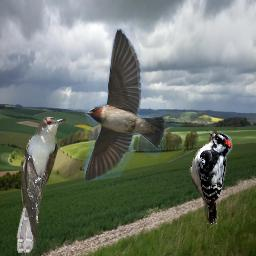Cuckoo: (15, 115, 67, 253)
Swallow: (84, 28, 166, 182)
Woodpecker: (189, 130, 233, 224)
